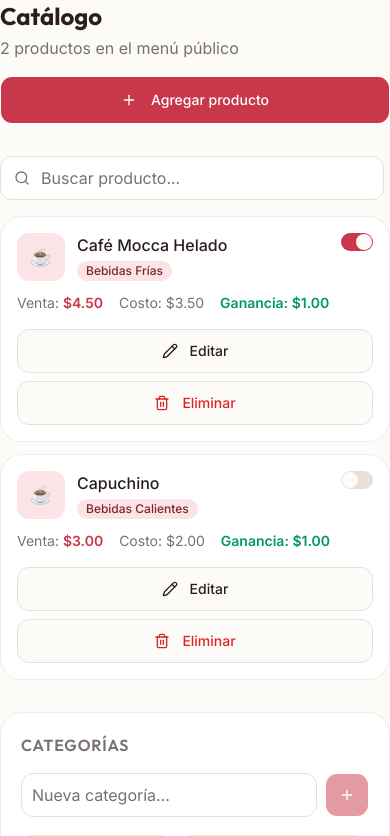
Test: CatalogoCliente › abre el modal de edición con los datos del producto
The width and height of the screenshot is (390, 836).
Click the button with aria-label "editar café mocca helado" at (195, 351), box [17,329,373,373]
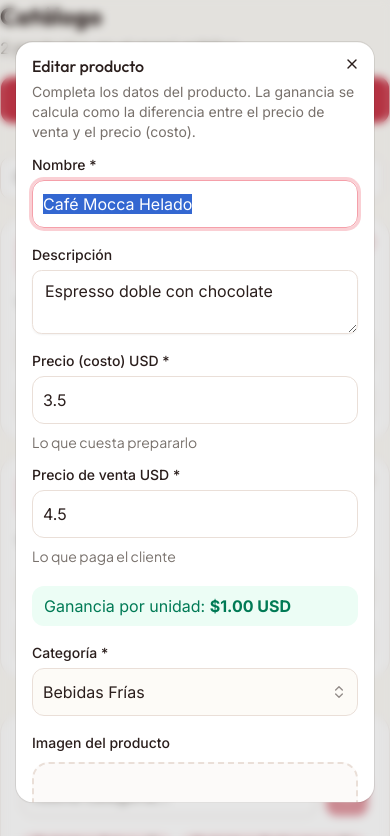
Check: the dialog "Editar producto" is shown
Check: the field labelled "Nombre *" holds "Café Mocca Helado", box [32,180,358,228]
Check: the number field labelled "Precio (costo) USD *" holds "3.5", box [32,376,358,424]
